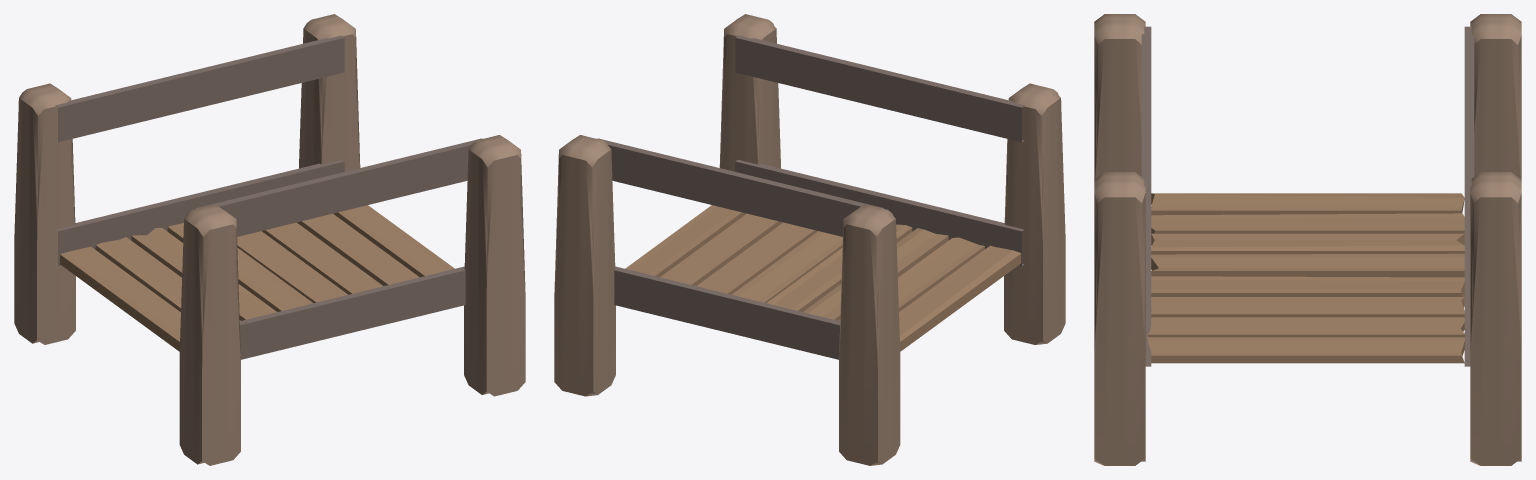
The model's file is bridge 2.fbx.
The picture shows the model from 3 angles, left to right: view 1: azimuth 30°, elevation 25°; view 2: azimuth 150°, elevation 25°; view 3: azimuth 270°, elevation 25°; orthographic projection. The views are drawn at different scales.
Parts seen in each view (by area): view 1: node_id106, node_id104, node_id102; view 2: node_id106, node_id104, node_id102; view 3: node_id102, node_id106, node_id104.
Part boxes in pixels (x1,y1,x2,y2): node_id106: (14, 14, 525, 465); node_id104: (55, 35, 482, 359); node_id102: (60, 205, 454, 351); node_id106: (554, 14, 1065, 465); node_id104: (597, 35, 1024, 359); node_id102: (625, 205, 1021, 351); node_id102: (1147, 193, 1465, 363); node_id106: (1094, 14, 1521, 465); node_id104: (1141, 26, 1474, 366).
Bounding box in the file's own units: 0.0293 × 0.021 × 0.0294.
